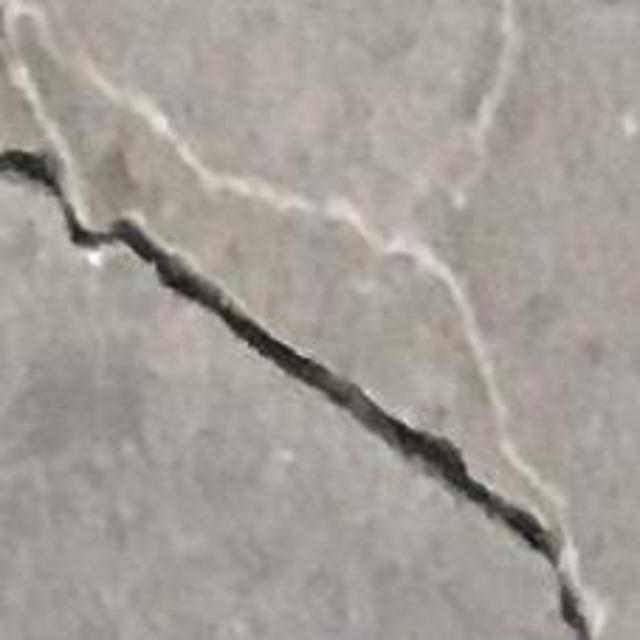crack: (0, 150, 592, 639)
